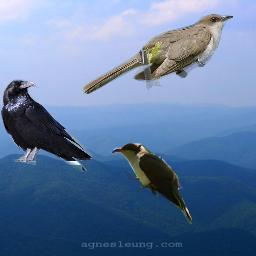Crow: (1, 79, 92, 172)
Cuckoo: (81, 13, 233, 94), (110, 143, 192, 224)
